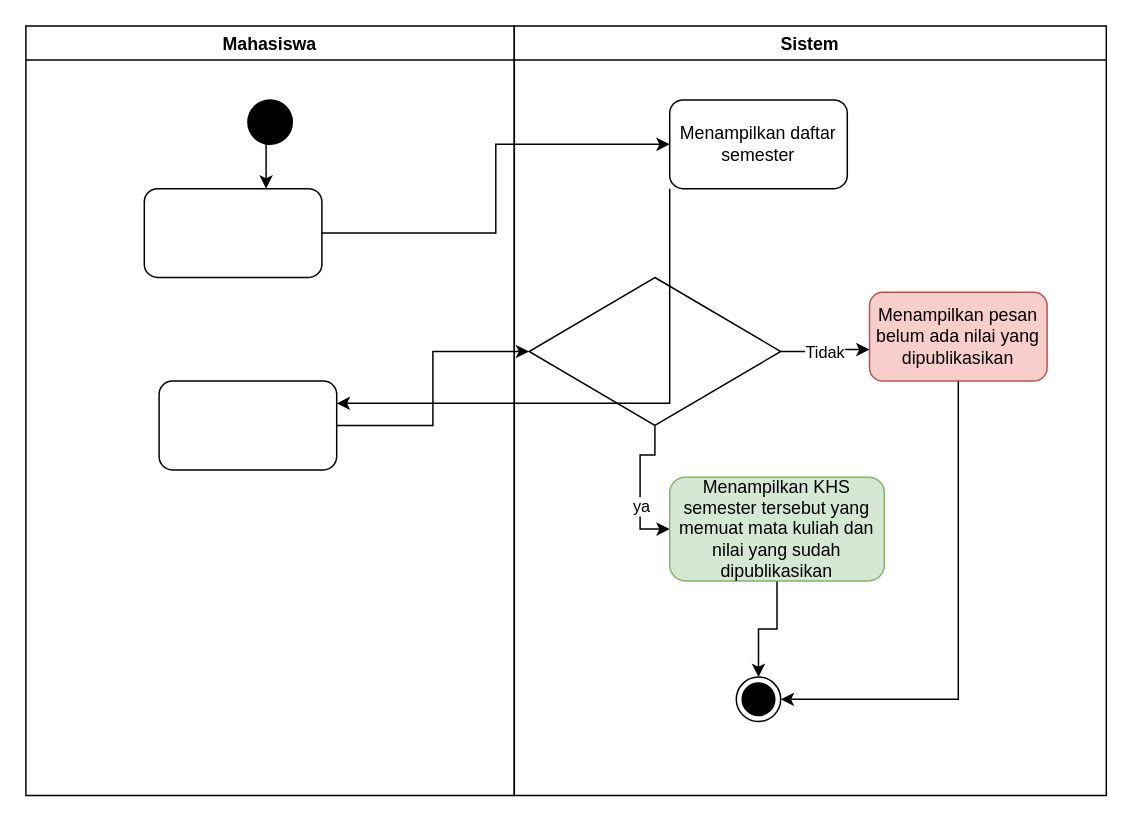
The diagram is 1132 pixels wide and 821 high, and some of its shapes have lost their labels. The centre of each missing label's shape, as x and y in pixels:
"Membuka fungsi KHS" belongs at (232,232).
"Memilih semester" belongs at (247,425).
"Nilai pada semester tersebut sudah dipublikasikan?" belongs at (654,351).
